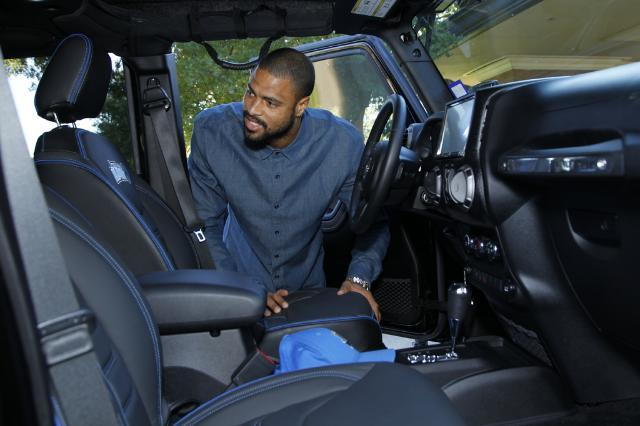Seatbelt: (0, 55, 120, 426), (146, 106, 214, 268)
